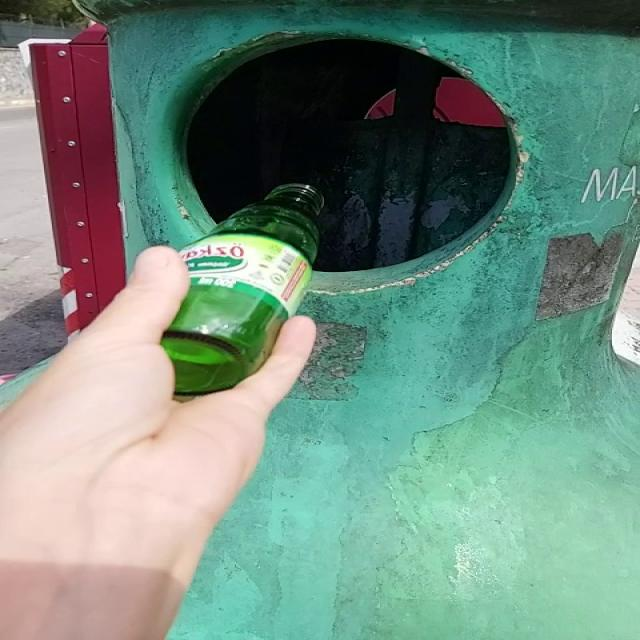glass: (161, 183, 324, 395)
